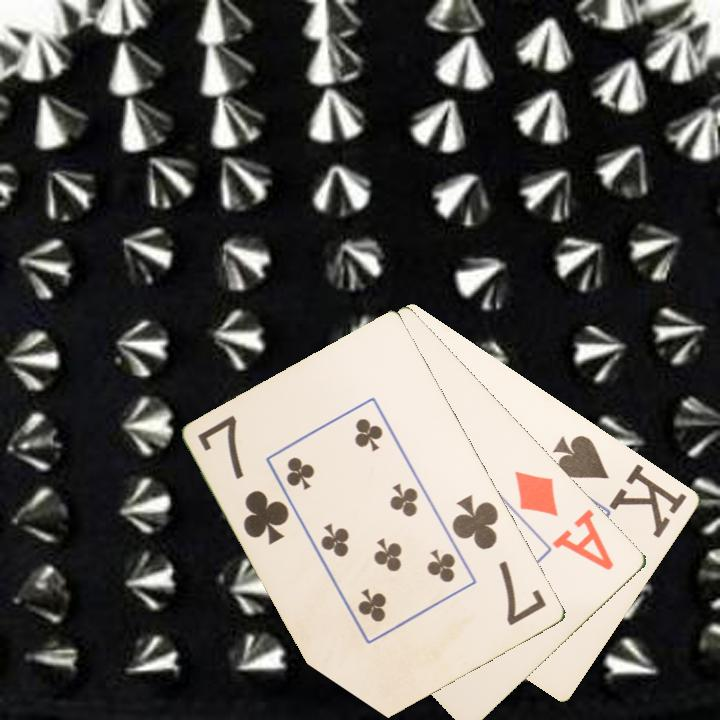7c: (448, 491, 550, 629), (194, 411, 293, 548)
Ad: (511, 467, 618, 574)
Ks: (550, 431, 691, 541)
